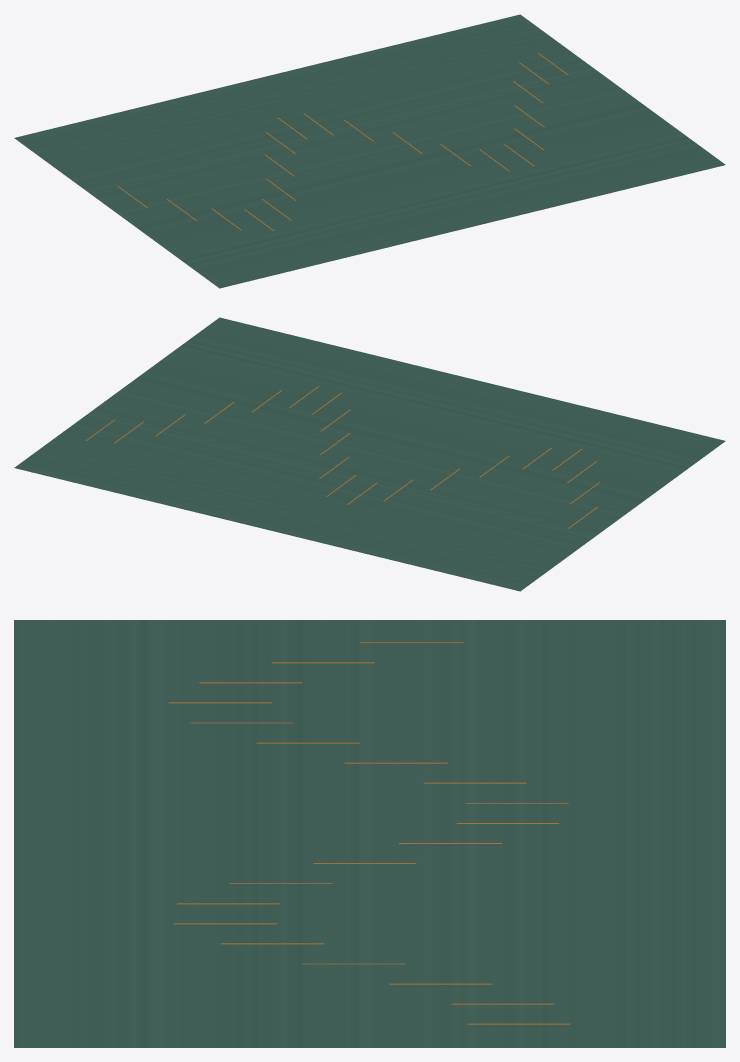
The model's file is 247_L118_L10_LayerReference.obj.
3 views of the same model, one above another, from view 1: azimuth 30°, elevation 25°; view 2: azimuth 150°, elevation 25°; view 3: azimuth 270°, elevation 25° (orthographic). The views are drawn at different scales.
Parts seen in each view (by area): view 1: 247_L118_L10_LayerReference; view 2: 247_L118_L10_LayerReference; view 3: 247_L118_L10_LayerReference.
Part boxes in pixels (<box>): 247_L118_L10_LayerReference: <box>14,14,725,288</box>; 247_L118_L10_LayerReference: <box>14,317,725,591</box>; 247_L118_L10_LayerReference: <box>14,620,725,1047</box>.
Size of the model in its own units: 0.472 by 0.000519 by 0.332.
2 materials, 2 textured.
